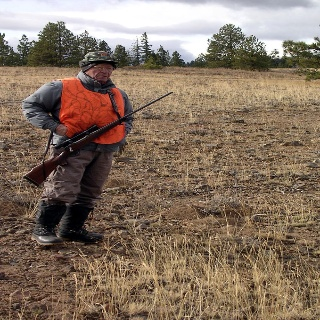rifle: (22, 91, 175, 187)
